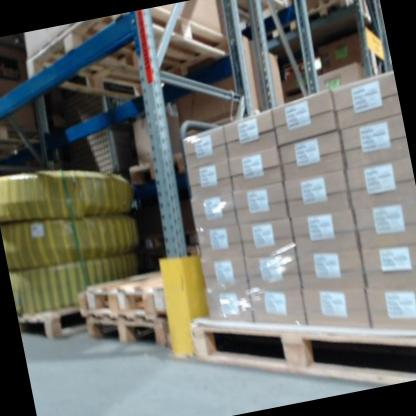pallet: (183, 274, 416, 416), (18, 0, 238, 117), (75, 269, 170, 330), (82, 305, 170, 358), (16, 299, 88, 342), (304, 0, 376, 34), (127, 150, 188, 187), (0, 114, 42, 161)
stillage: (37, 71, 168, 199)
